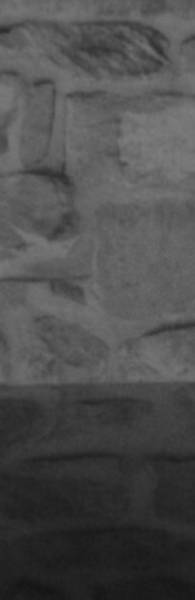water: (0, 384, 195, 600)
